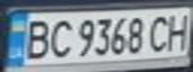3: (93, 15, 115, 56)
6: (109, 15, 130, 56)
8: (127, 13, 148, 55)
9: (72, 16, 96, 57)
B: (18, 16, 54, 61)
C: (45, 16, 75, 58), (145, 12, 175, 53)
H: (163, 10, 193, 52)
